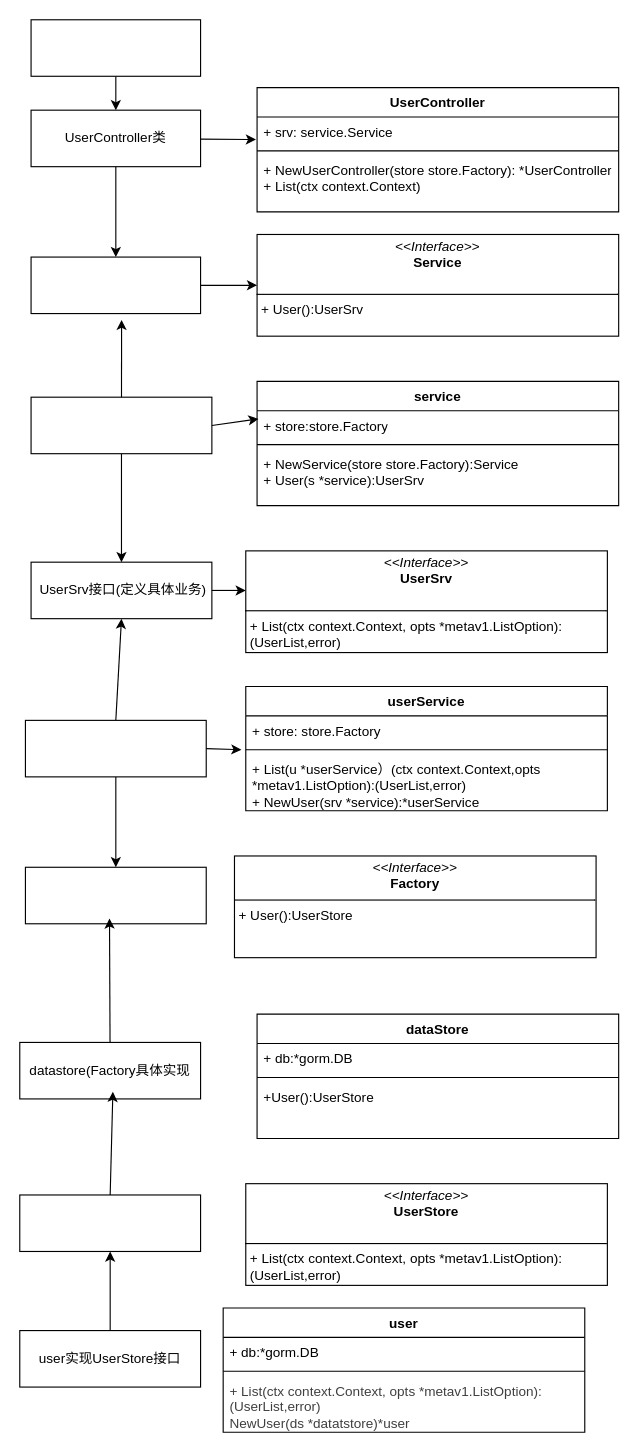
This 638x1455 diagram has some shape labels left out. The shapes that lost their labels are listed below. From the top down, each one's box as (x1, y1, x2, y2) in pixels, then its label:
(30, 19, 201, 76): 客户端
(30, 256, 201, 314): Service接口(业务大类)
(30, 396, 212, 454): service类(实现Service接口)
(24, 719, 206, 777): userService(实现UserSrv）
(24, 866, 206, 924): Factory接口(数据访问总接口)
(19, 1194, 201, 1251): UserStore接口(定义用户业务规范)
